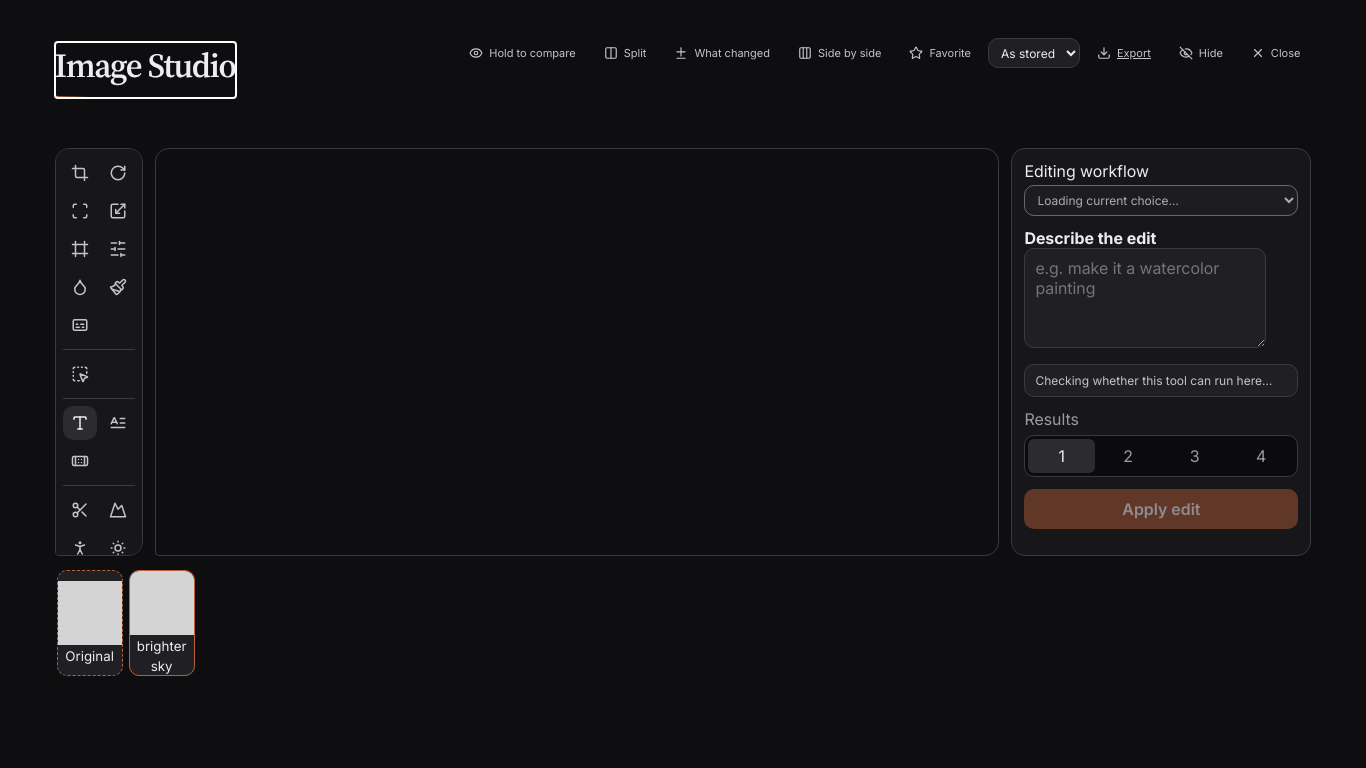
Test case: comparing in the studio › offers nothing to compare on the original
Expected: the button "Hold to compare" is shown, [458,38,587,68]
Click the button named "The original image" at (90, 623), box [57,570,123,676]
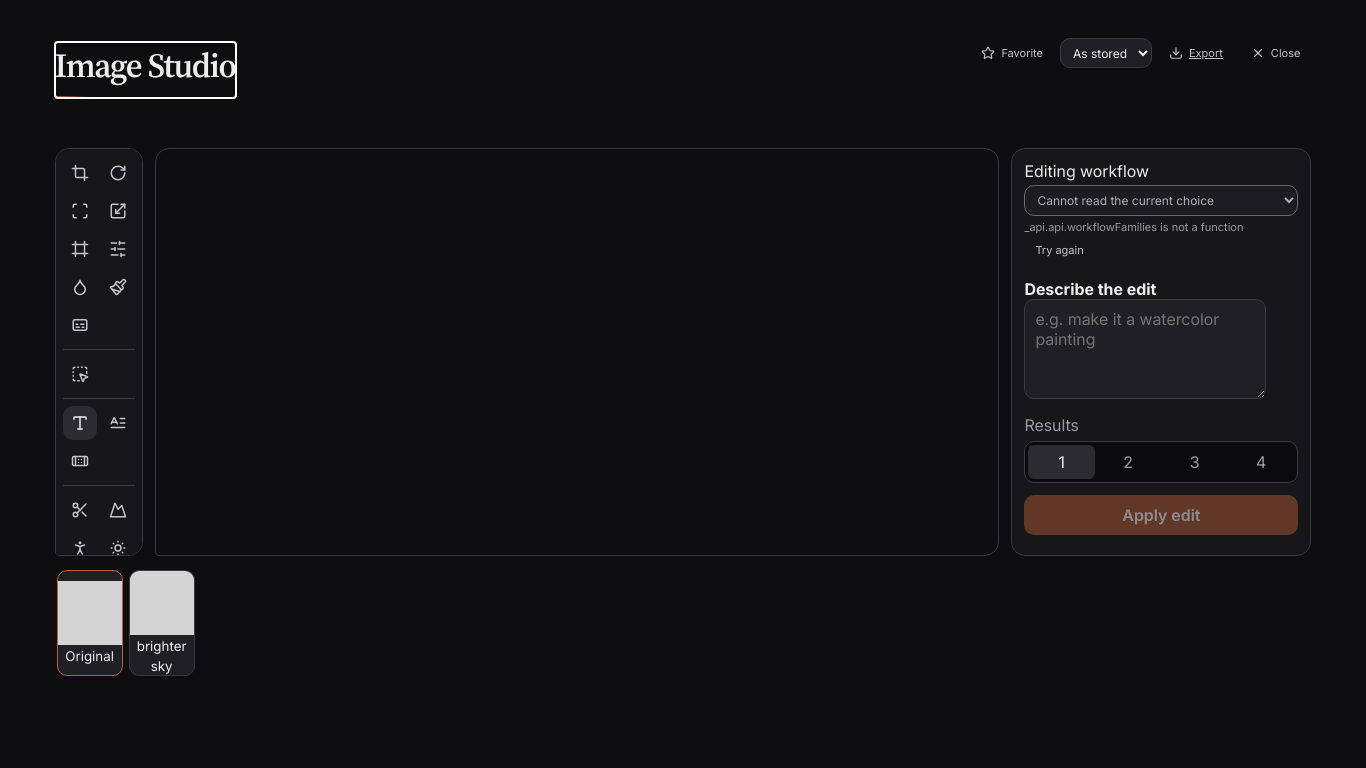
Expected: the button "Hold to compare" is gone
